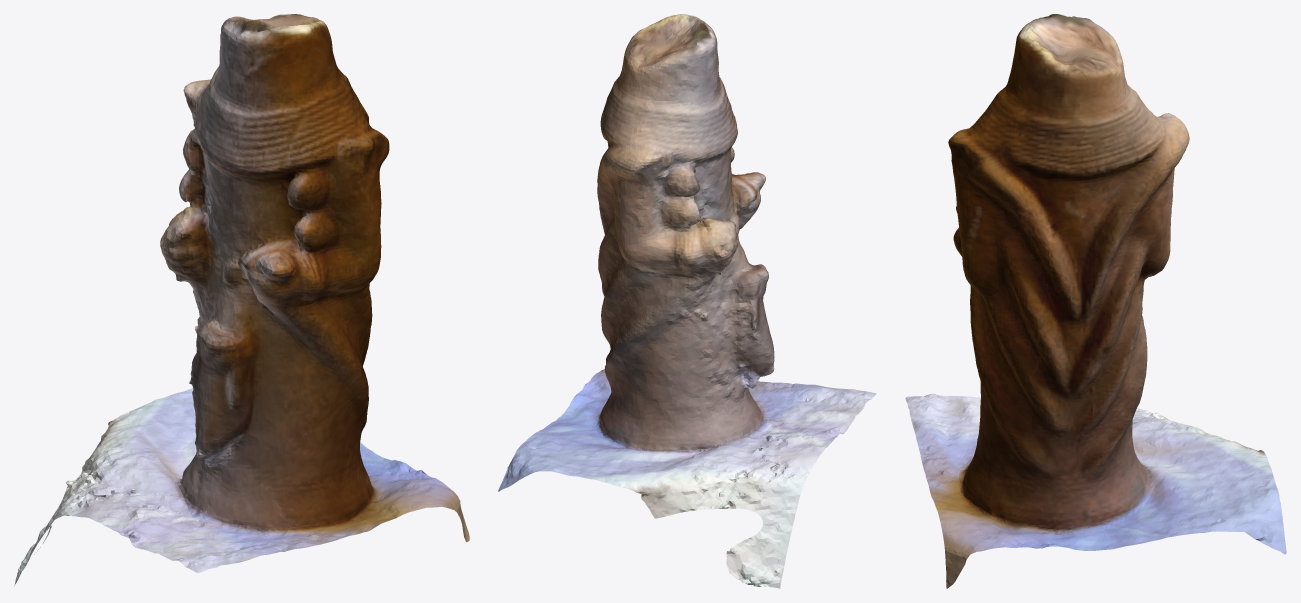
The picture shows the model from 3 angles, left to right: view 1: azimuth 30°, elevation 25°; view 2: azimuth 150°, elevation 25°; view 3: azimuth 270°, elevation 25°; orthographic projection. The views are drawn at different scales.
Bounding box in the file's own units: 0.291 × 0.4883 × 0.3019.
1 material, 1 textured.
